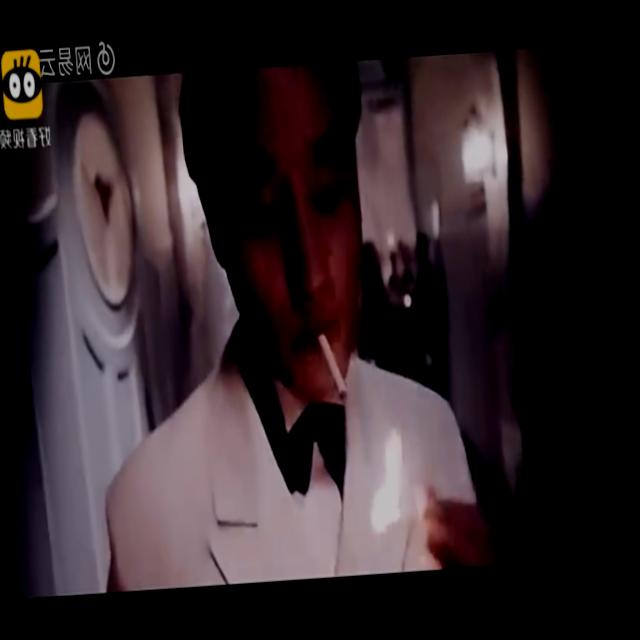smoke: (316, 330, 353, 402)
